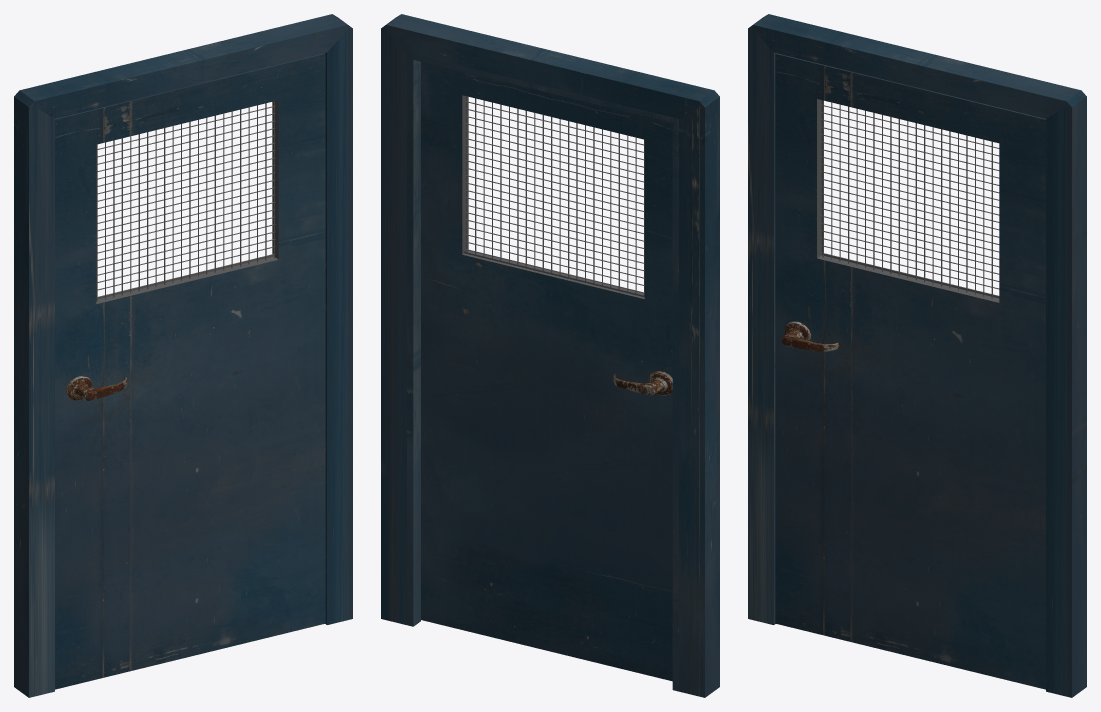
The model's file is door.glb.
3 views of the same model, side by side, from view 1: azimuth 30°, elevation 25°; view 2: azimuth 150°, elevation 25°; view 3: azimuth 330°, elevation 25° (orthographic).
Visible parts, largest first — view 1: Door, DoorFrame; view 2: Door, DoorFrame; view 3: Door, DoorFrame.
Part boxes in pixels (x1,y1,x2,y2): Door: (55, 53, 325, 689); DoorFrame: (14, 14, 352, 697); Door: (421, 62, 672, 681); DoorFrame: (381, 14, 719, 697); Door: (775, 53, 1045, 689); DoorFrame: (748, 14, 1086, 697).
Size of the model in its own units: 1.72 by 3.01 by 0.2895.
3 materials, 2 textured.
